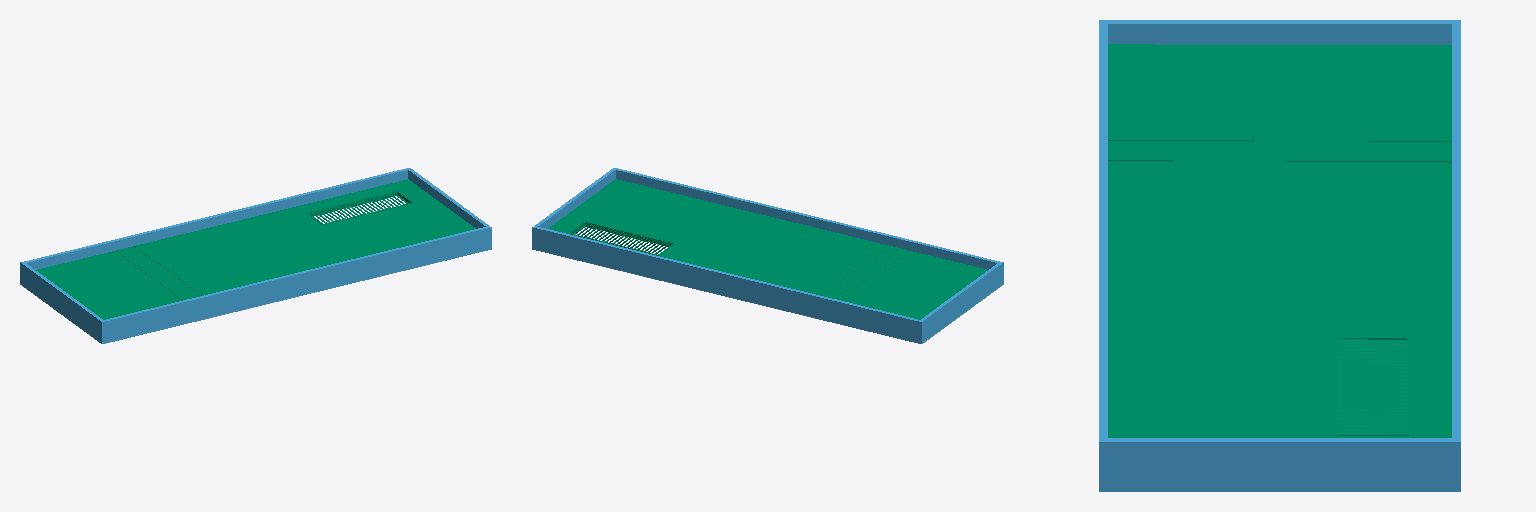
robot.urdf — right-pull-door:
<?xml version="1.0" ?>
<robot name="right-pull-door">
	<link name="base"/>
	<link name="link_0">
		<visual name="out-frame">
			<origin xyz="0 0 0"/>
			<geometry>
				<mesh filename="texture_dae/frame.dae" scale="0.9819213144505309 0.9819213144505309 0.9819213144505309"/>
			</geometry>
		</visual>
		<collision>
			<origin xyz="0 0 0"/>
			<geometry>
				<mesh filename="texture_dae/frame.dae" scale="0.9819213144505309 0.9819213144505309 0.9819213144505309"/>
			</geometry>
		</collision>
	</link>
	<joint name="joint_0" type="fixed">
		<origin rpy="1.570796326794897 0 -1.570796326794897" xyz="0 0 0"/>
		<child link="link_0"/>
		<parent link="base"/>
	</joint>
	<link name="link_1">
		<visual name="surf-board">
			<origin xyz="0.31814110873760876 -0.9017513457001962 0"/>
			<geometry>
				<mesh filename="texture_dae/board.dae" scale="0.9819213144505309 0.9819213144505309 0.9819213144505309"/>
			</geometry>
		</visual>
		<collision>
			<origin xyz="0.31814110873760876 -0.9017513457001962 0"/>
			<geometry>
				<mesh filename="texture_dae/board.dae" scale="0.9819213144505309 0.9819213144505309 0.9819213144505309"/>
			</geometry>
		</collision>
	</link>
	<joint name="joint_1" type="revolute">
		<origin xyz="-0.31814110873760876 0.9017513457001962 0"/>
		<axis xyz="0 -1 0"/>
		<child link="link_1"/>
		<parent link="link_0"/>
		<limit lower="0" upper="1.5079644737231006"/>
	</joint>
	<link name="link_2">
		<visual name="handle">
			<origin xyz="0 0 0"/>
			<geometry>
				<mesh filename="texture_dae/9960048-handle-right.dae" scale="1.08209426137901 1.08209426137901 1.08209426137901"/>
			</geometry>
		</visual>
		<collision>
			<origin xyz="0 0 0"/>
			<geometry>
				<mesh filename="texture_dae/9960048-handle-right.dae" scale="1.08209426137901 1.08209426137901 1.08209426137901"/>
			</geometry>
		</collision>
	</link>
	<joint name="joint_2" type="revolute">
		<origin xyz="0 0 0"/>
		<child link="link_2"/>
		<parent link="link_3"/>
		<axis xyz="0 0 1"/>
		<limit lower="0" upper="1.5079644737231006"/>
	</joint>
	<link name="link_3">
		<visual name="lock">
			<origin xyz="0 0 0"/>
			<geometry>
				<mesh filename="texture_dae/9960048-lock-right.dae" scale="1.08209426137901 1.08209426137901 1.08209426137901"/>
			</geometry>
		</visual>
		<collision>
			<origin xyz="0 0 0"/>
			<geometry>
				<mesh filename="texture_dae/9960048-lock-right.dae" scale="1.08209426137901 1.08209426137901 1.08209426137901"/>
			</geometry>
		</collision>
	</link>
	<joint name="joint_3" type="fixed">
		<origin xyz="0.5559314066927609 -1.0073047304942444 0.011062137272129019"/>
		<child link="link_3"/>
		<parent link="link_1"/>
	</joint>
</robot>

--- Render facts (derived) ---
3 views of the same robot in one strip: view 1: azimuth 30°, elevation 25°; view 2: azimuth 150°, elevation 25°; view 3: azimuth 270°, elevation 25° (orthographic).
Robot: right-pull-door — 5 links, 4 joints (2 revolute, 2 fixed); root link base; default pose: all joints at 0.
Links seen in each view (by area): view 1: link_1, link_0; view 2: link_1, link_0; view 3: link_1, link_0.
Boxes of the visible links, x1,y1,x2,y2 form: link_1: (36,179,475,319); link_0: (20,168,491,343); link_1: (548,179,987,319); link_0: (532,168,1003,343); link_1: (1108,44,1451,437); link_0: (1099,20,1460,491).
Size in the robot's own frame: 1.84 by 0.6694 by 0.1004 metres.
Meshes: 4 distinct files referenced, 2 mesh visuals loaded (2 Collada DAE); not drawn: 2 (file found but could not be loaded).
